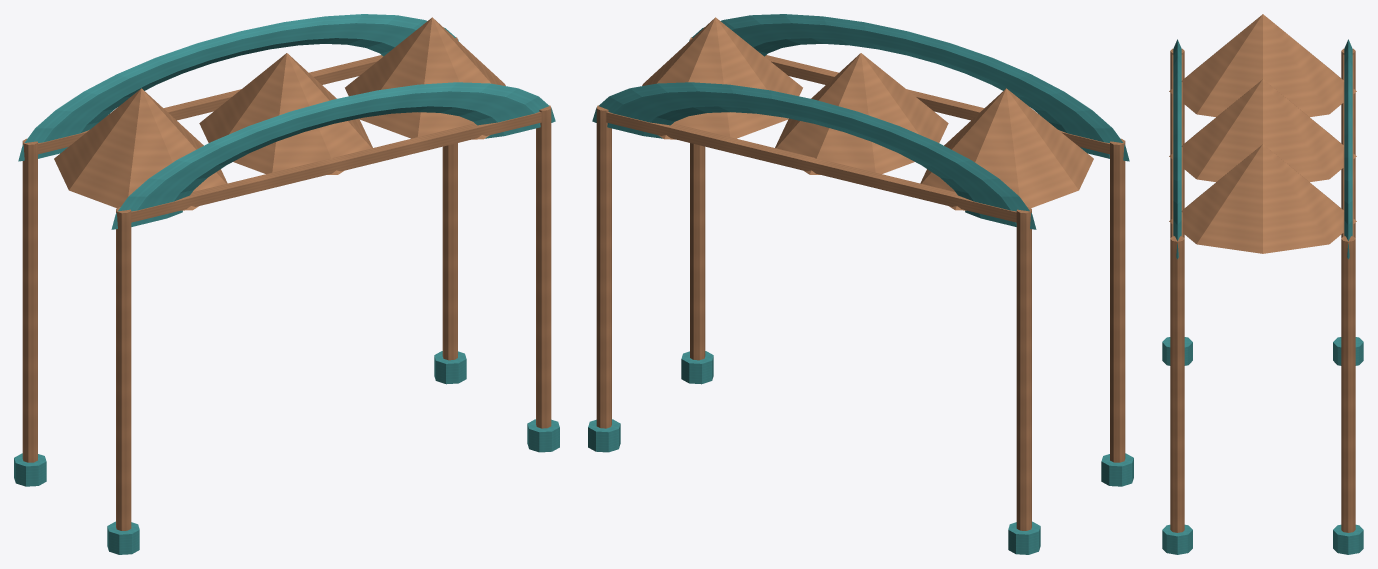
Rendered from atlas100-s091-a08.glb.
The picture shows the model from 3 angles, left to right: view 1: azimuth 30°, elevation 25°; view 2: azimuth 150°, elevation 25°; view 3: azimuth 270°, elevation 25°; orthographic projection. The views are drawn at different scales.
Parts seen in each view (by area): view 1: atlas100-s091-a08:part-011, atlas100-s091-a08:part-010, atlas100-s091-a08:part-012, atlas100-s091-a08:part-013, atlas100-s091-a08:part-014, atlas100-s091-a08:part-009, atlas100-s091-a08:part-002, atlas100-s091-a08:part-000, atlas100-s091-a08:part-006, atlas100-s091-a08:part-004, atlas100-s091-a08:part-008, atlas100-s091-a08:part-001 (+3 smaller); view 2: atlas100-s091-a08:part-010, atlas100-s091-a08:part-011, atlas100-s091-a08:part-012, atlas100-s091-a08:part-013, atlas100-s091-a08:part-014, atlas100-s091-a08:part-008, atlas100-s091-a08:part-000, atlas100-s091-a08:part-002, atlas100-s091-a08:part-004, atlas100-s091-a08:part-006, atlas100-s091-a08:part-009, atlas100-s091-a08:part-003 (+3 smaller); view 3: atlas100-s091-a08:part-014, atlas100-s091-a08:part-012, atlas100-s091-a08:part-013, atlas100-s091-a08:part-004, atlas100-s091-a08:part-006, atlas100-s091-a08:part-010, atlas100-s091-a08:part-011, atlas100-s091-a08:part-000, atlas100-s091-a08:part-002, atlas100-s091-a08:part-005, atlas100-s091-a08:part-007, atlas100-s091-a08:part-008 (+3 smaller).
Boxes of the visible parts, box(x1,y1,x2,y2) form: atlas100-s091-a08:part-011: box(111, 82, 555, 229); atlas100-s091-a08:part-010: box(18, 14, 458, 161); atlas100-s091-a08:part-012: box(54, 88, 227, 210); atlas100-s091-a08:part-013: box(199, 53, 372, 174); atlas100-s091-a08:part-014: box(345, 17, 505, 139); atlas100-s091-a08:part-009: box(131, 112, 541, 222); atlas100-s091-a08:part-002: box(116, 207, 131, 530); atlas100-s091-a08:part-000: box(22, 138, 37, 462); atlas100-s091-a08:part-006: box(536, 105, 551, 428); atlas100-s091-a08:part-004: box(442, 37, 457, 360); atlas100-s091-a08:part-008: box(38, 55, 383, 154); atlas100-s091-a08:part-001: box(14, 453, 46, 486); atlas100-s091-a08:part-010: box(592, 82, 1036, 229); atlas100-s091-a08:part-011: box(689, 14, 1129, 161); atlas100-s091-a08:part-012: box(920, 88, 1093, 210); atlas100-s091-a08:part-013: box(775, 53, 948, 174); atlas100-s091-a08:part-014: box(642, 17, 802, 139); atlas100-s091-a08:part-008: box(606, 112, 1016, 222); atlas100-s091-a08:part-000: box(1016, 207, 1031, 530); atlas100-s091-a08:part-002: box(1110, 138, 1125, 462); atlas100-s091-a08:part-004: box(596, 105, 611, 428); atlas100-s091-a08:part-006: box(690, 37, 705, 360); atlas100-s091-a08:part-009: box(764, 55, 1109, 154); atlas100-s091-a08:part-003: box(1101, 453, 1133, 486); atlas100-s091-a08:part-014: box(1169, 144, 1356, 253); atlas100-s091-a08:part-012: box(1169, 14, 1356, 116); atlas100-s091-a08:part-013: box(1169, 79, 1356, 181); atlas100-s091-a08:part-004: box(1341, 236, 1355, 532); atlas100-s091-a08:part-006: box(1170, 236, 1184, 532); atlas100-s091-a08:part-010: box(1344, 39, 1352, 259); atlas100-s091-a08:part-011: box(1173, 39, 1181, 259); atlas100-s091-a08:part-000: box(1341, 48, 1355, 238); atlas100-s091-a08:part-002: box(1170, 48, 1184, 238); atlas100-s091-a08:part-005: box(1333, 524, 1363, 554); atlas100-s091-a08:part-007: box(1162, 524, 1192, 554); atlas100-s091-a08:part-008: box(1343, 54, 1353, 236).
Size of the model in its own units: 5.56 by 4.85 by 2.36.
Materials: 2 (2 with a texture image).
